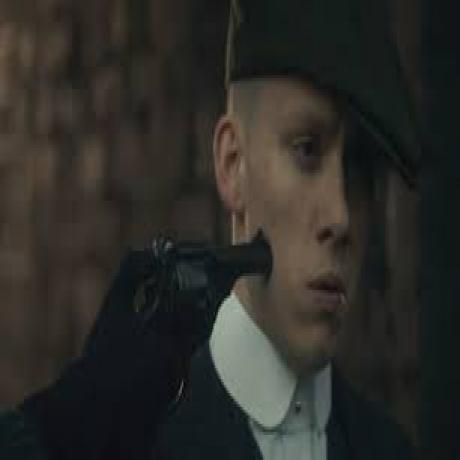Guns: (132, 215, 272, 390)
